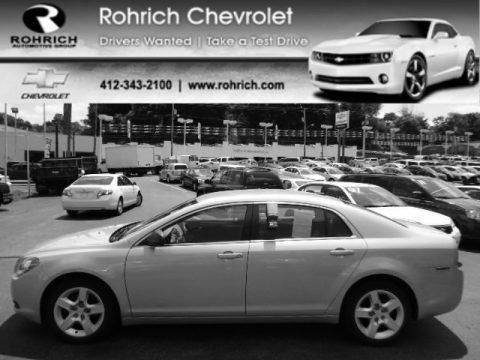car: (12, 188, 467, 357)
